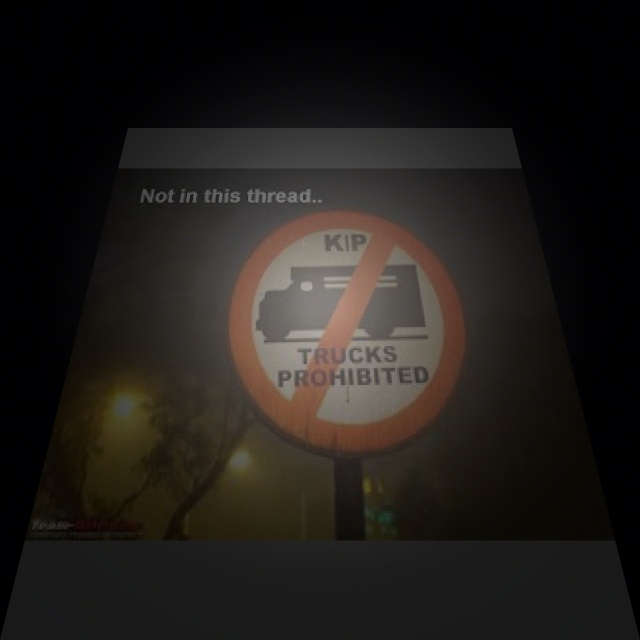Truck_Prohibited: (211, 210, 496, 459)
